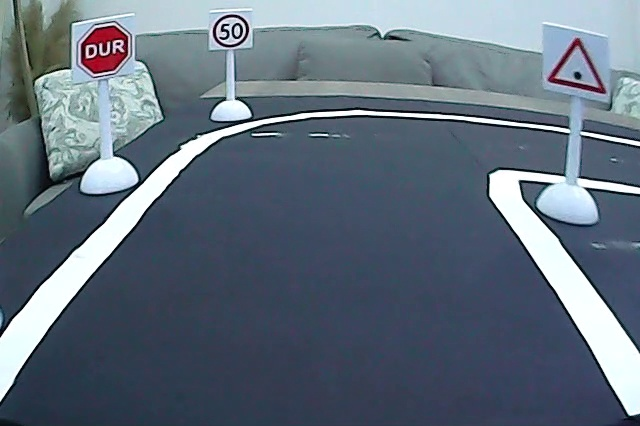green light: (542, 32, 611, 99)
speed limit 50: (212, 12, 252, 49)
stop sign: (75, 19, 136, 80)
